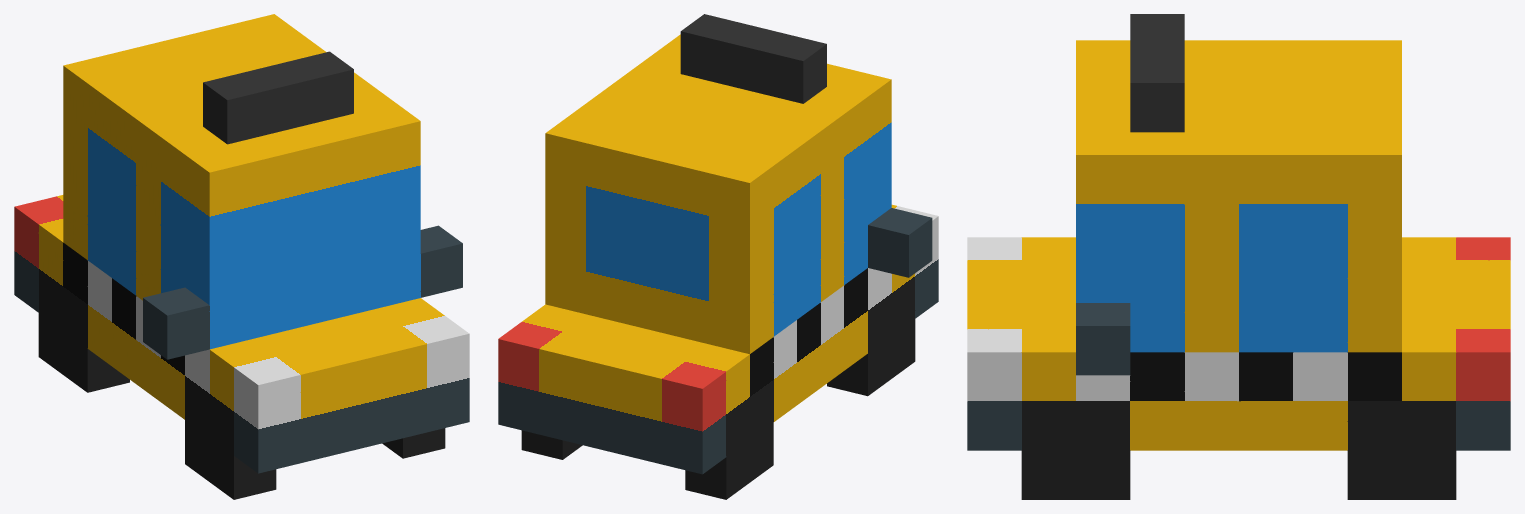
File: Taxi.dae
The picture shows the model from 3 angles, left to right: view 1: azimuth 30°, elevation 25°; view 2: azimuth 150°, elevation 25°; view 3: azimuth 270°, elevation 25°; orthographic projection. The views are drawn at different scales.
Parts seen in each view (by area): view 1: Matrix_1; view 2: Matrix_1; view 3: Matrix_1.
Boxes of the visible parts, x1=… form: Matrix_1: x1=14, y1=14, x2=469, y2=499; Matrix_1: x1=498, y1=14, x2=938, y2=499; Matrix_1: x1=967, y1=14, x2=1510, y2=499.
Size of the model in its own units: 7 by 8 by 10.
1 material, 1 textured.
